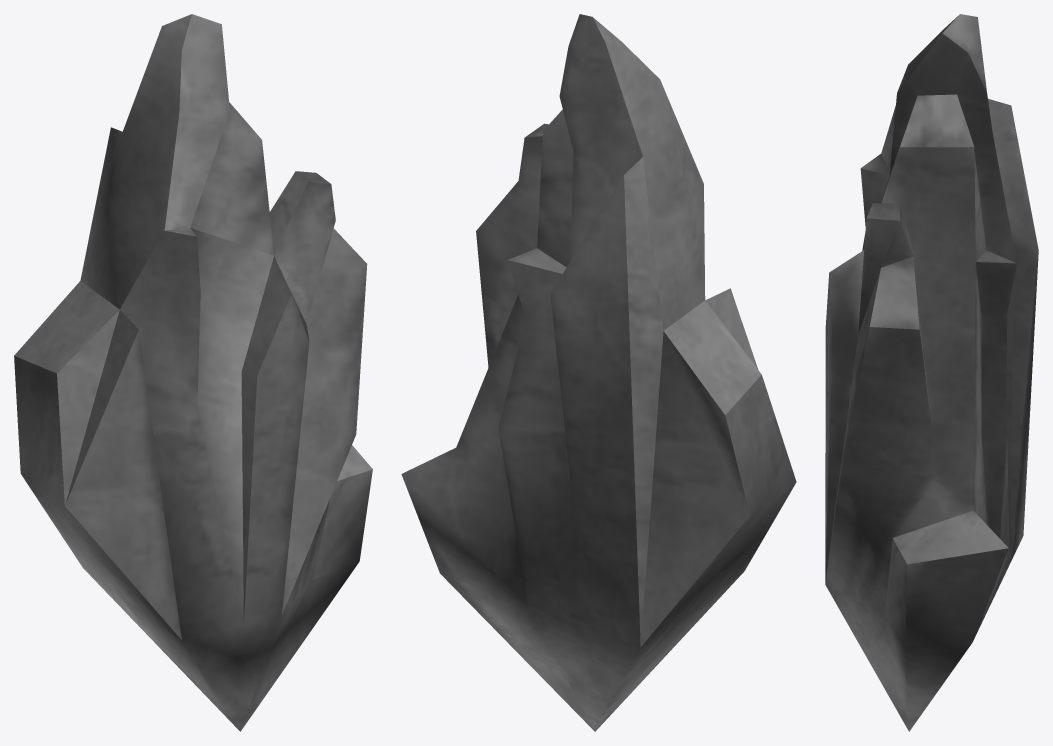
3 views of the same model, side by side, from view 1: azimuth 30°, elevation 25°; view 2: azimuth 150°, elevation 25°; view 3: azimuth 270°, elevation 25° (orthographic). The views are drawn at different scales.
Parts seen in each view (by area): view 1: rock_LOD0; view 2: rock_LOD0; view 3: rock_LOD0.
Boxes of the visible parts, x1,y1,x2,y2 form: rock_LOD0: (14, 14, 372, 731); rock_LOD0: (401, 14, 796, 731); rock_LOD0: (825, 14, 1038, 731).
Size of what is drawn, in the model's own units: 316 by 669 by 183.
